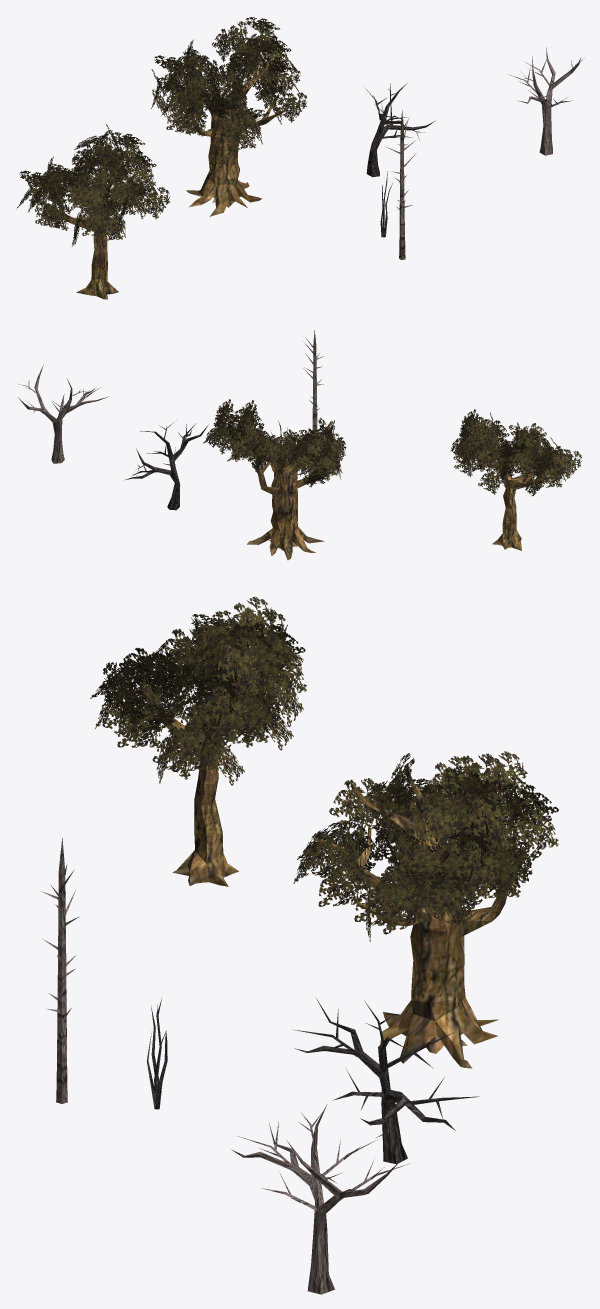
File: shu_001.FBX
3 renders of one model, top to bottom at view 1: azimuth 30°, elevation 25°; view 2: azimuth 150°, elevation 25°; view 3: azimuth 270°, elevation 25°, orthographic. The views are drawn at different scales.
Visible parts, largest first — view 1: SMDImport (×5); view 2: SMDImport (×5); view 3: SMDImport (×6).
Boxes of the visible parts, x1=… form: SMDImport (×5): x1=16, y1=17, x2=584, y2=299; SMDImport (×5): x1=18, y1=330, x2=581, y2=560; SMDImport (×6): x1=41, y1=596, x2=558, y2=1294.
Size of the model in its own units: 3365 by 899 by 1439.
